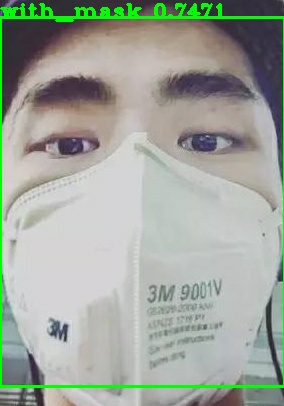with_mask: (2, 2, 284, 401)
